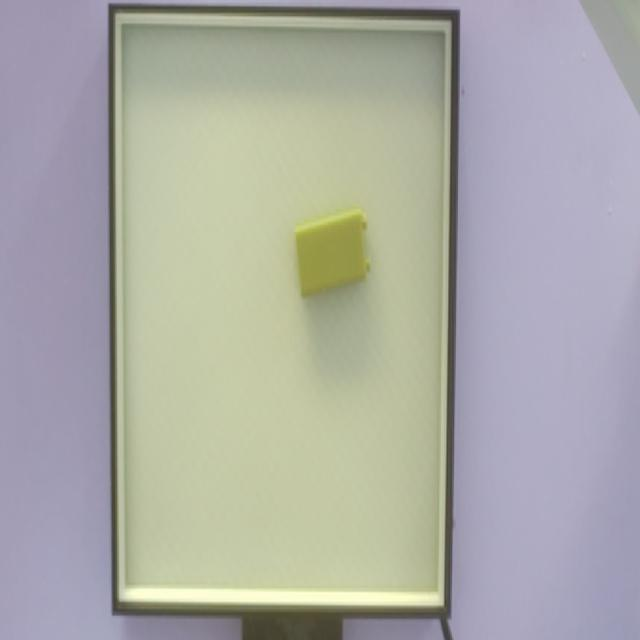bateria: (294, 207, 371, 299)
mesa: (108, 2, 459, 618)
